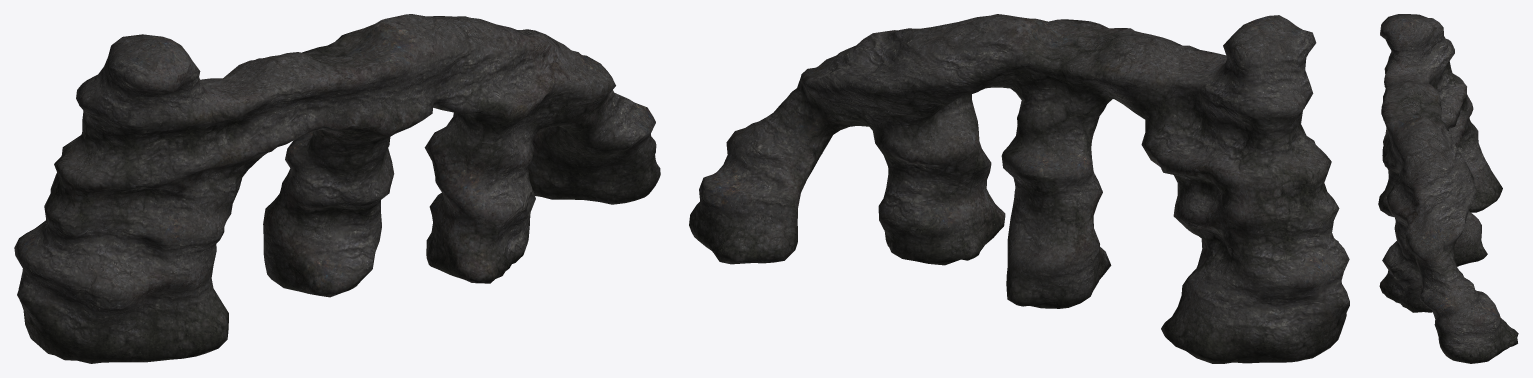
Rendered from stone2.glb.
3 renders of one model, left to right at view 1: azimuth 30°, elevation 25°; view 2: azimuth 150°, elevation 25°; view 3: azimuth 270°, elevation 25°, orthographic. The views are drawn at different scales.
Visible parts, largest first — view 1: StoneArchLarge_Obj; view 2: StoneArchLarge_Obj; view 3: StoneArchLarge_Obj.
Boxes of the visible parts, x1,y1,x2,y2 form: StoneArchLarge_Obj: [14, 14, 660, 363]; StoneArchLarge_Obj: [689, 14, 1349, 363]; StoneArchLarge_Obj: [1378, 14, 1518, 363].
Size of the model in its own units: 17.89 by 8.09 by 5.44.
Materials: 1 (1 with a texture image).
